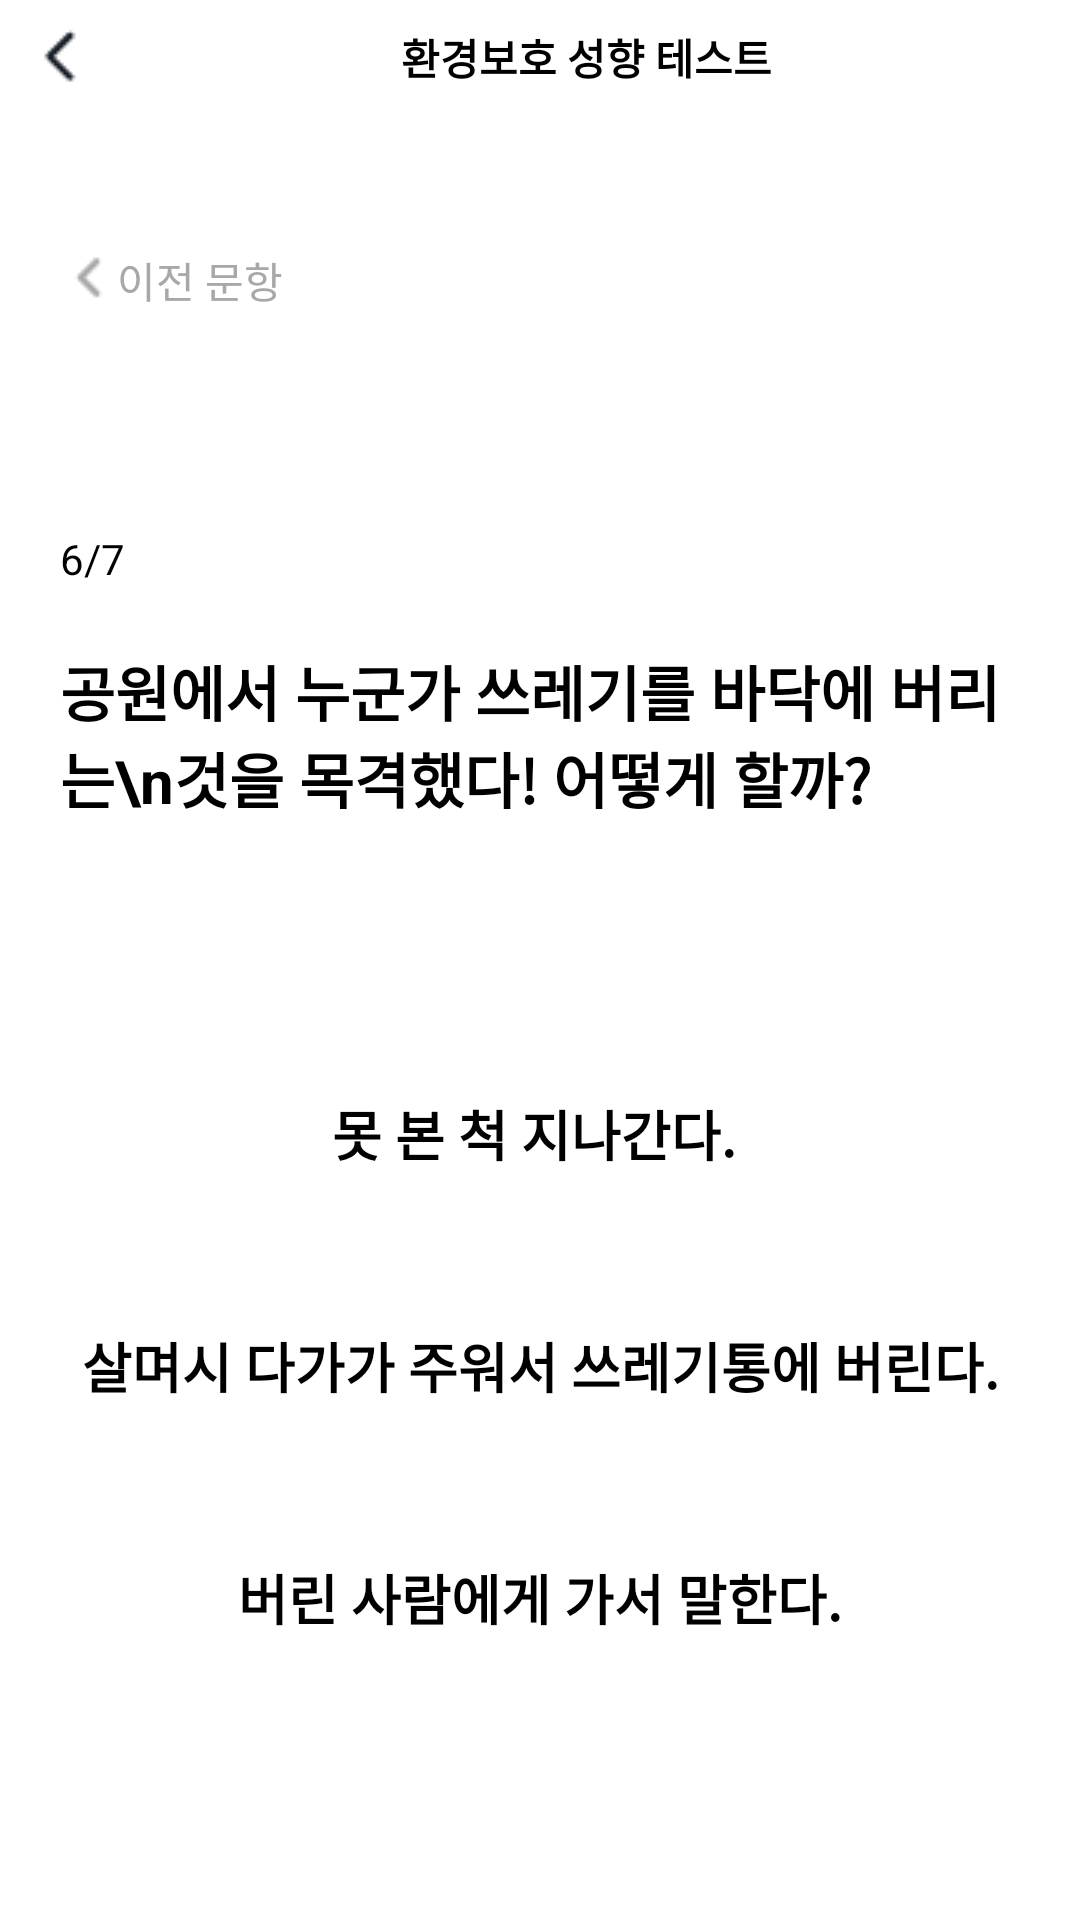

Named icons in this screenshot (1080x1920) and their bounding boxes, (x1, y1, x2, y2):
backicon: (44, 30, 76, 82)
greybackicon: (77, 258, 100, 297)
